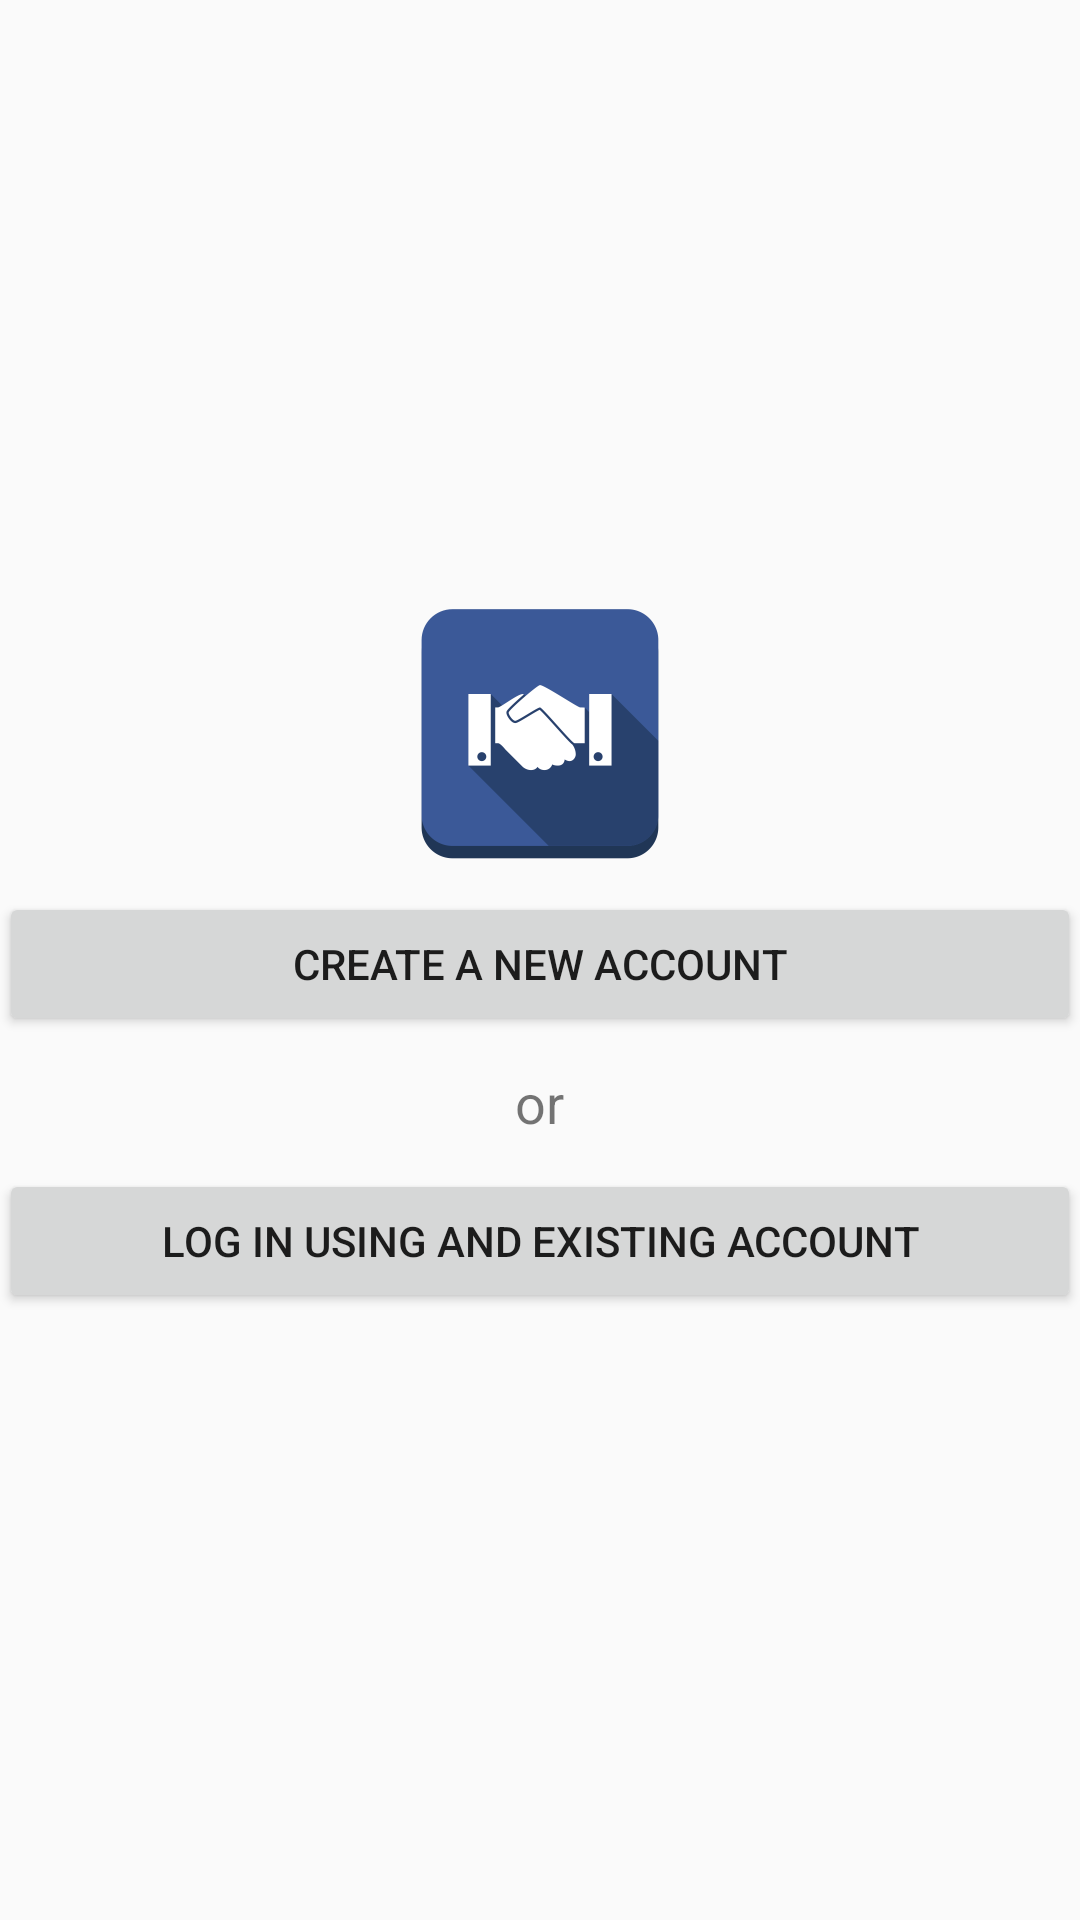

Screen size 1080*1920. Icon name, then its center in pixels as (x=x, y=y):
handshake: (x=540, y=734)
